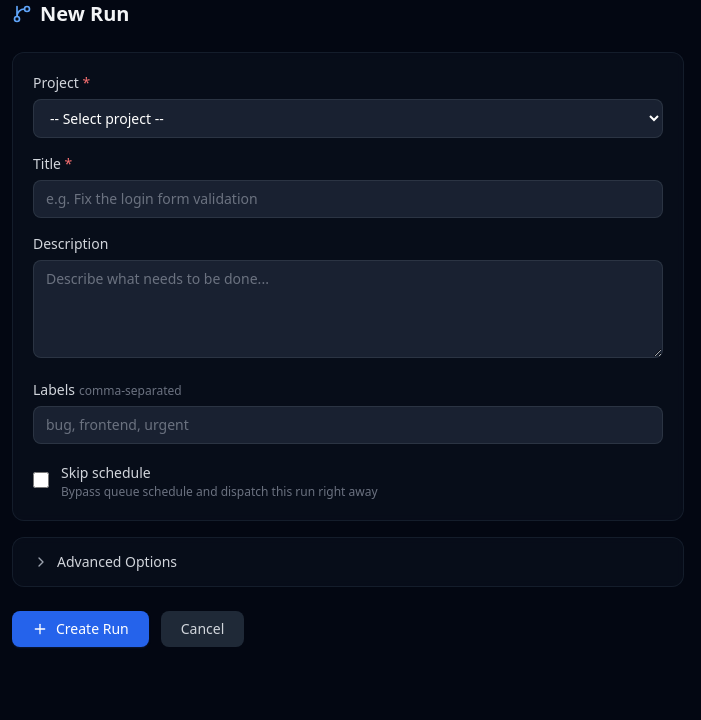
NewRun › shows advanced options when toggle is clicked
This screenshot has width=701, height=720.
Step 1. Click the button "Advanced Options" → [117, 562], box [13, 538, 683, 586]
(page scrolled)
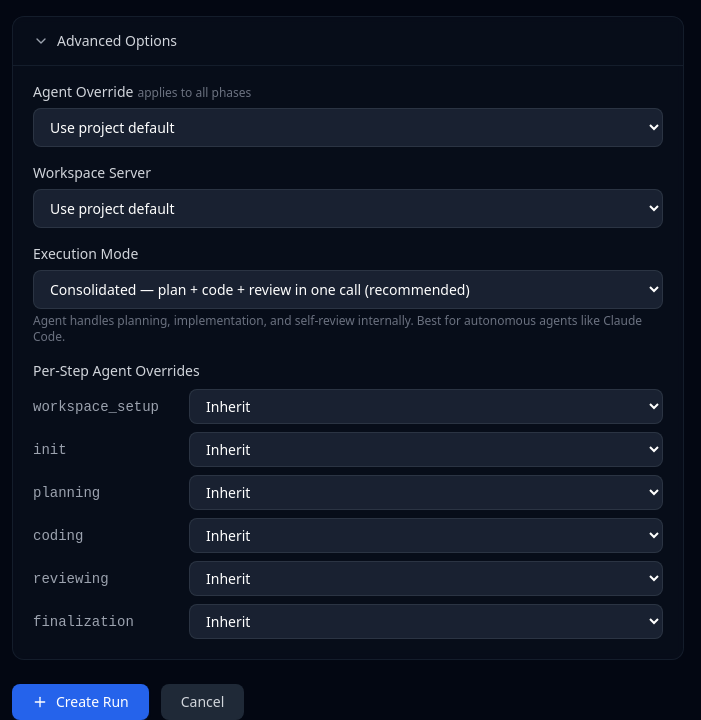
Expected: the text "Per-Step Agent Overrides" is shown, [33, 361, 200, 380]
Expected: the text "coding" is shown, [33, 528, 83, 544]
Expected: the text "reviewing" is shown, [33, 570, 109, 586]
